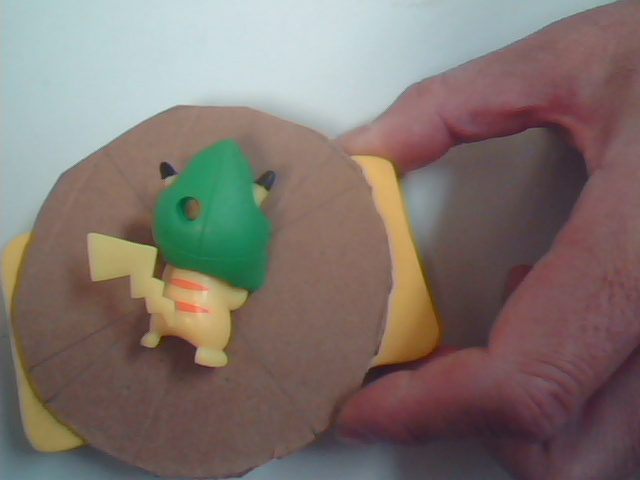pikachu: (68, 133, 321, 386)
